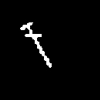double_crochet: (20, 23, 50, 67)
